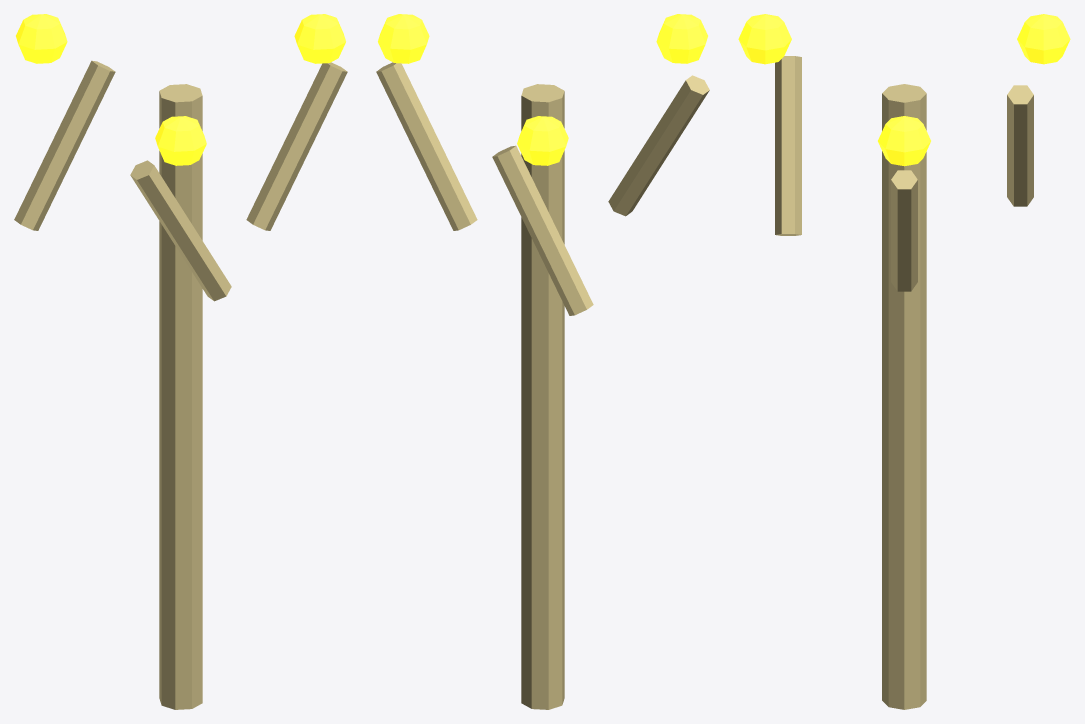
Rendered from env_baroque_candelabra.glb.
3 views of the same model, side by side, from view 1: azimuth 30°, elevation 25°; view 2: azimuth 150°, elevation 25°; view 3: azimuth 270°, elevation 25° (orthographic).
Visible parts, largest first — view 1: Cylinder, Cylinder.002, Cylinder.001, Cylinder.003, Sphere, Sphere.001, Sphere.002; view 2: Cylinder, Cylinder.002, Cylinder.001, Cylinder.003, Sphere, Sphere.001, Sphere.002; view 3: Cylinder, Cylinder.003, Cylinder.001, Cylinder.002, Sphere.002, Sphere, Sphere.001.
Boxes of the visible parts, box(x1,y1,x2,y2) form: Cylinder: box(159, 84, 202, 709); Cylinder.002: box(14, 60, 115, 230); Cylinder.001: box(246, 62, 347, 230); Cylinder.003: box(130, 160, 231, 301); Sphere: box(294, 14, 345, 63); Sphere.001: box(16, 14, 67, 63); Sphere.002: box(155, 116, 206, 165); Cylinder: box(521, 84, 564, 709); Cylinder.002: box(492, 145, 593, 315); Cylinder.001: box(376, 62, 477, 230); Cylinder.003: box(608, 75, 709, 216); Sphere: box(378, 14, 429, 63); Sphere.001: box(517, 116, 568, 165); Sphere.002: box(656, 14, 707, 63); Cylinder: box(882, 84, 926, 709); Cylinder.003: box(775, 56, 801, 235); Cylinder.001: box(891, 170, 917, 291); Cylinder.002: box(1007, 85, 1033, 206); Sphere.002: box(738, 14, 791, 64); Sphere: box(878, 116, 930, 166); Sphere.001: box(1017, 14, 1070, 64).
Size of the model in its own units: 0.6949 by 1.61 by 0.7436.
